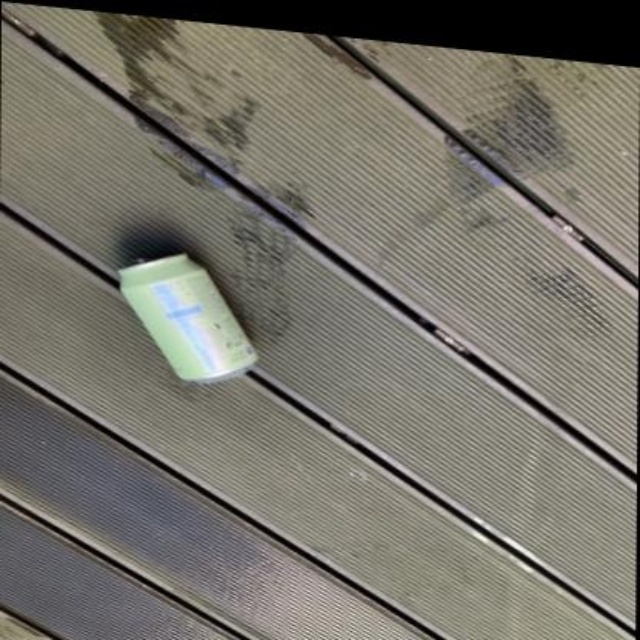trash: (118, 254, 255, 380)
